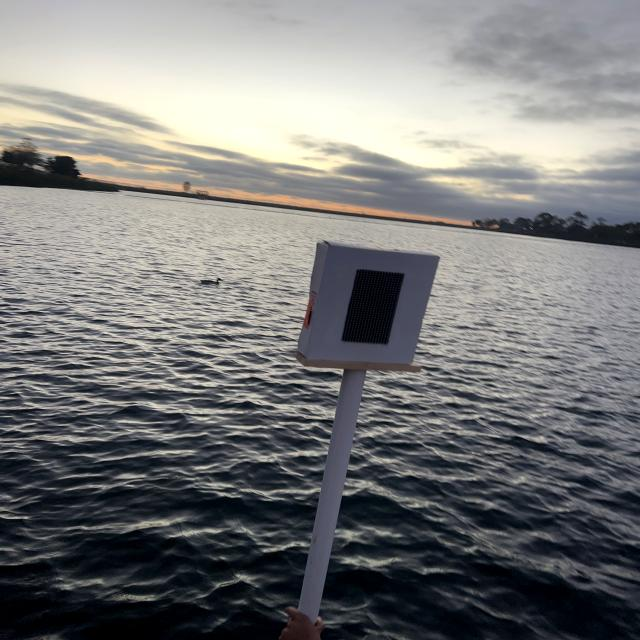led: (318, 256, 415, 372)
